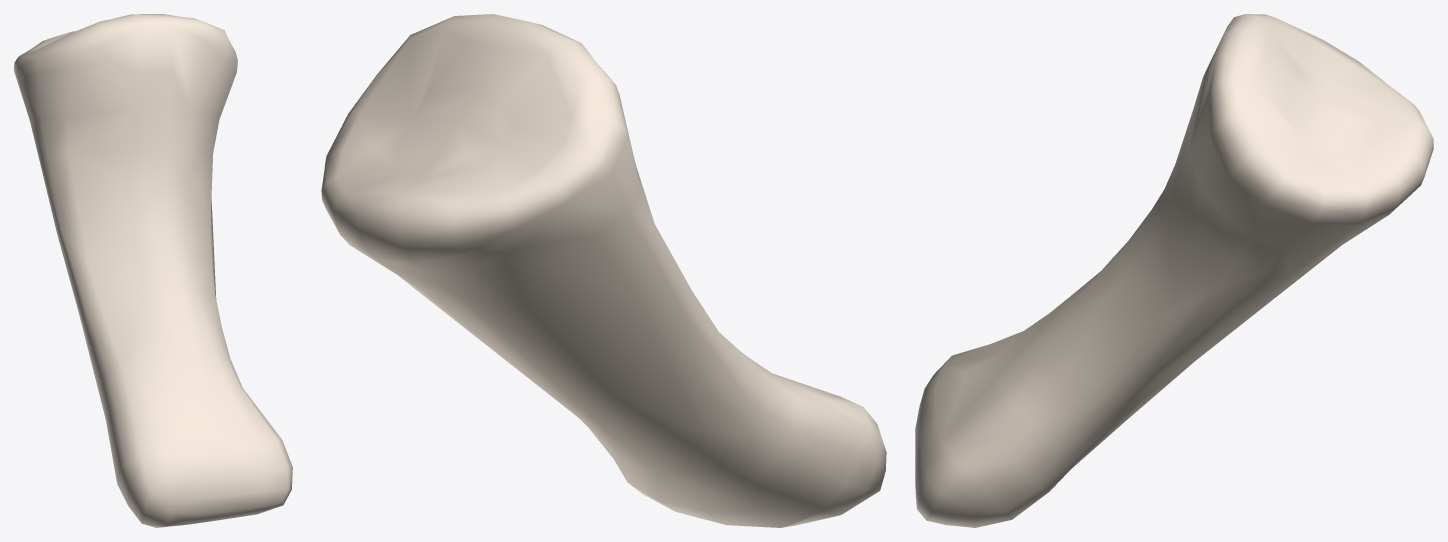
The model's file is left_digit_5_middle.glb.
3 renders of one model, left to right at view 1: azimuth 30°, elevation 25°; view 2: azimuth 150°, elevation 25°; view 3: azimuth 270°, elevation 25°, orthographic. The views are drawn at different scales.
Parts seen in each view (by area): view 1: Middle phalanx of 5th finger.r; view 2: Middle phalanx of 5th finger.r; view 3: Middle phalanx of 5th finger.r.
Boxes of the visible parts, x1,y1,x2,y2 form: Middle phalanx of 5th finger.r: (14,14,292,527); Middle phalanx of 5th finger.r: (321,14,886,527); Middle phalanx of 5th finger.r: (915,14,1433,527).
Bounding box in the file's own units: 0.00666 × 0.0112 × 0.0106.
